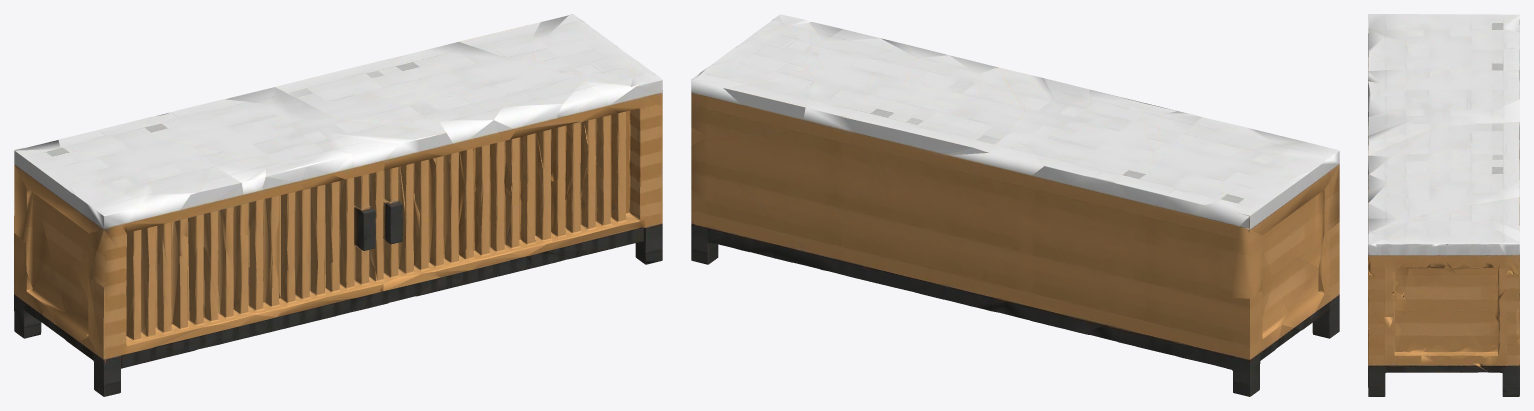
Rendered from low_credenza.glb.
3 views of the same model, side by side, from view 1: azimuth 30°, elevation 25°; view 2: azimuth 150°, elevation 25°; view 3: azimuth 270°, elevation 25° (orthographic). The views are drawn at different scales.
Size of the model in its own units: 2 by 0.621 by 0.5578.
1 material, 1 textured.
